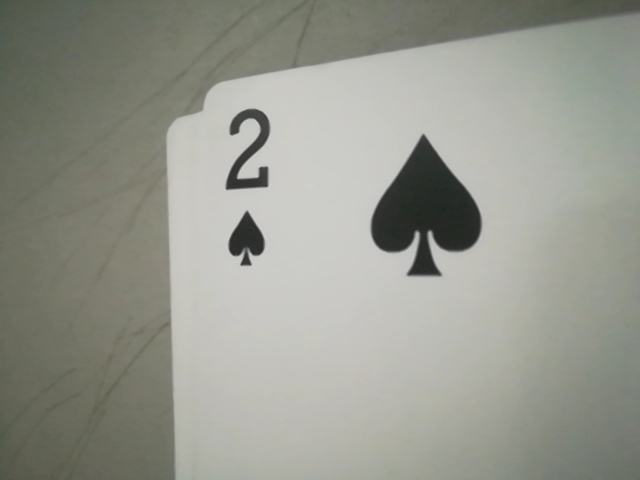ht 2: (204, 103, 300, 267)
